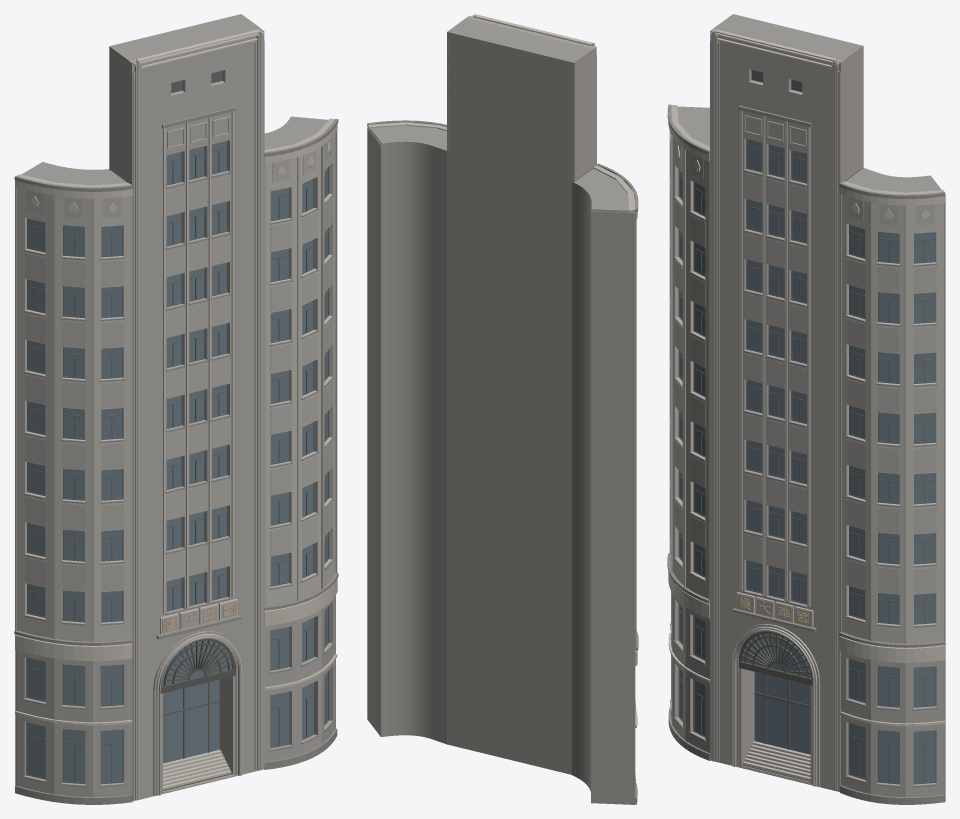
File: huangpu-guohua-bank-lod.glb
The picture shows the model from 3 angles, left to right: view 1: azimuth 30°, elevation 25°; view 2: azimuth 150°, elevation 25°; view 3: azimuth 330°, elevation 25°; orthographic projection. The views are drawn at different scales.
Parts seen in each view (by area): view 1: 国华银行大楼（东南转角与弧形窗墙）; view 2: 国华银行大楼（东南转角与弧形窗墙）; view 3: 国华银行大楼（东南转角与弧形窗墙）.
Boxes of the visible parts, x1,y1,x2,y2 form: 国华银行大楼（东南转角与弧形窗墙）: [14, 14, 338, 804]; 国华银行大楼（东南转角与弧形窗墙）: [367, 14, 638, 804]; 国华银行大楼（东南转角与弧形窗墙）: [667, 14, 945, 804].
Size of the model in its own units: 20.9 by 48.89 by 6.14.
